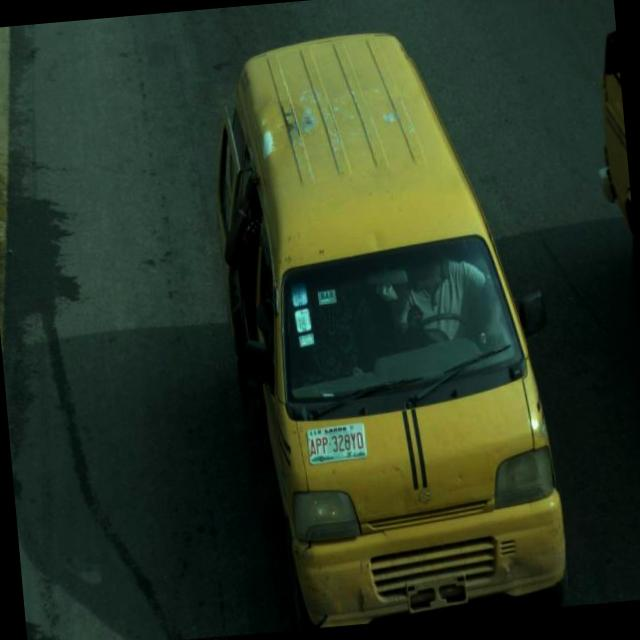person_without_seatbelt: (384, 240, 493, 364)
